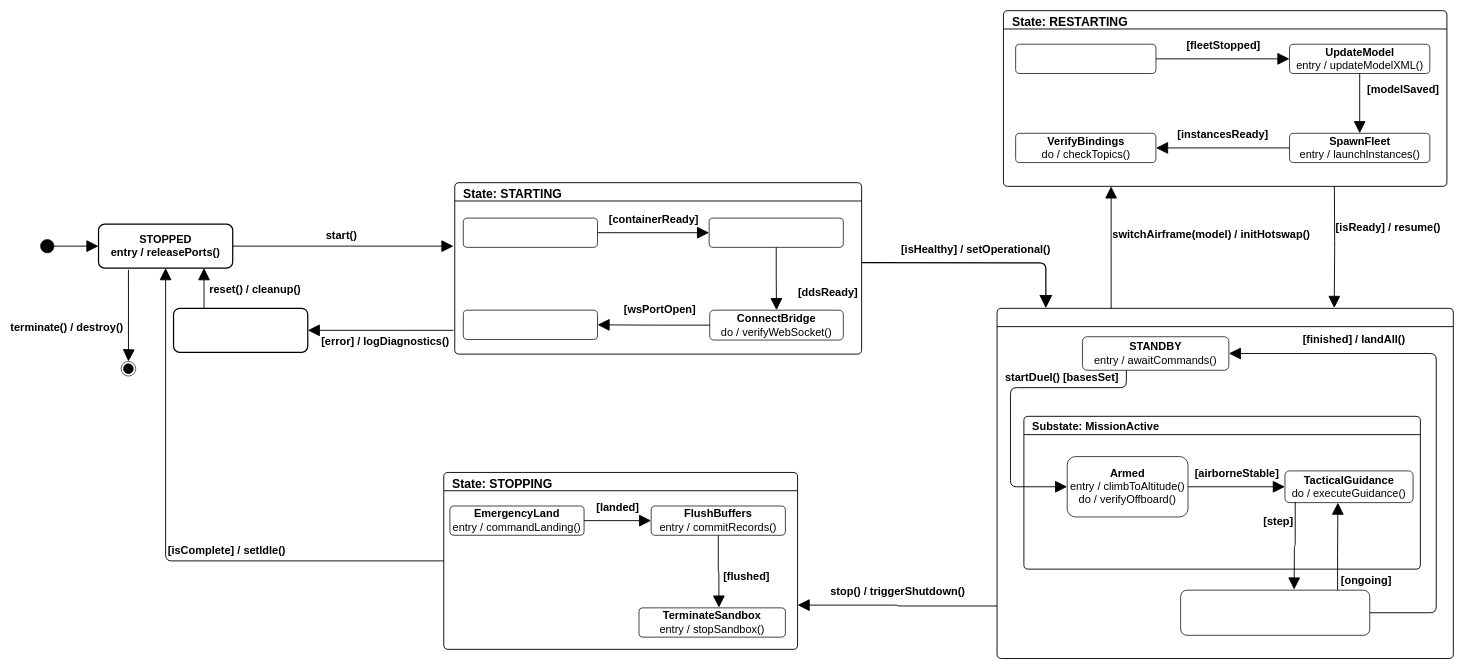
Image size: 1465x670. Some labels were removed from this diagram. The shapes that lost their labels are listed below. From the top down, each one's box as (x1, y1, x2, y2) in pixels, then its label:
(1015, 44, 1156, 74): TerminateAutopilots entry / stopFleet()
(463, 217, 598, 247): BootSandbox entry / startSandbox()
(708, 217, 843, 247): ConnectDDS do / pollHandshake()
(173, 307, 308, 353): ERROR entry / logDiagnostics()
(463, 310, 598, 340): VerifyNodes entry / checkNodes()
(996, 308, 1454, 659): State: RUNNING
(1180, 590, 1370, 635): EvaluateInterception entry / checkKillRadius() do / recordTelemetry()
